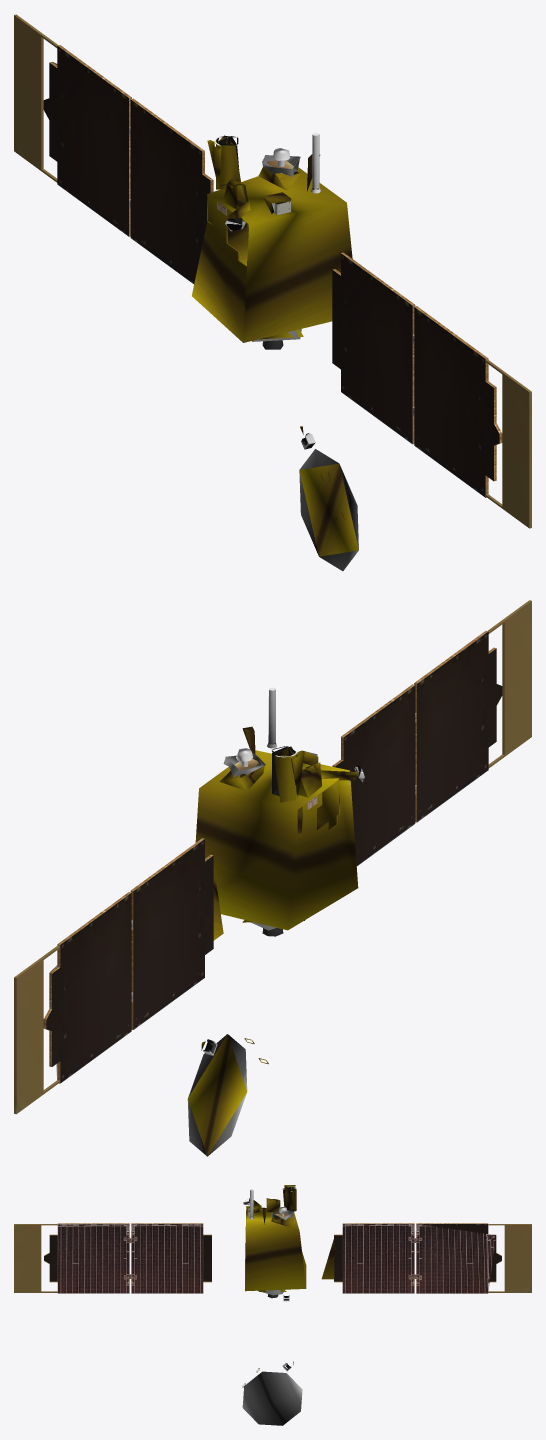
Rendered from mars-global-surveyor.glb.
3 views of the same model, one above another, from view 1: azimuth 30°, elevation 25°; view 2: azimuth 150°, elevation 25°; view 3: azimuth 270°, elevation 25° (orthographic). The views are drawn at different scales.
Visible parts, largest first — view 1: shiny_panel, foil_gold, foil_silver, AO; view 2: shiny_panel, foil_gold, foil_silver, AO; view 3: shiny_panel, foil_gold, foil_silver.
Part boxes in pixels (left/top/right/bottom): shiny_panel: left=14, top=14, right=531, bottom=528; foil_gold: left=192, top=135, right=358, bottom=556; foil_silver: left=299, top=449, right=358, bottom=571; AO: left=214, top=132, right=320, bottom=449; shiny_panel: left=14, top=600, right=531, bottom=1114; foil_gold: left=188, top=726, right=358, bottom=1156; foil_silver: left=187, top=1034, right=247, bottom=1156; AO: left=203, top=687, right=364, bottom=1055; shiny_panel: left=14, top=1208, right=531, bottom=1295; foil_gold: left=242, top=1185, right=334, bottom=1387; foil_silver: left=242, top=1371, right=302, bottom=1425.
Bounding box in the file's own units: 1.75 × 5.1 × 10.52.
7 materials, 6 textured.
